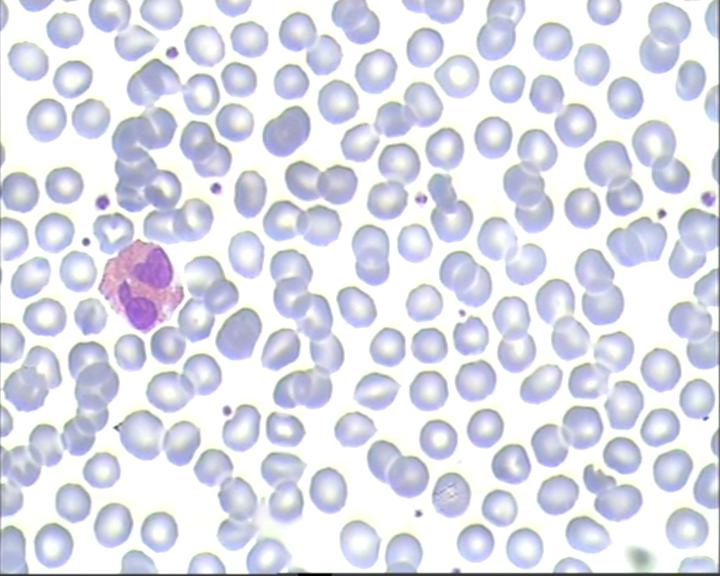eosi: (99, 235, 185, 337)
